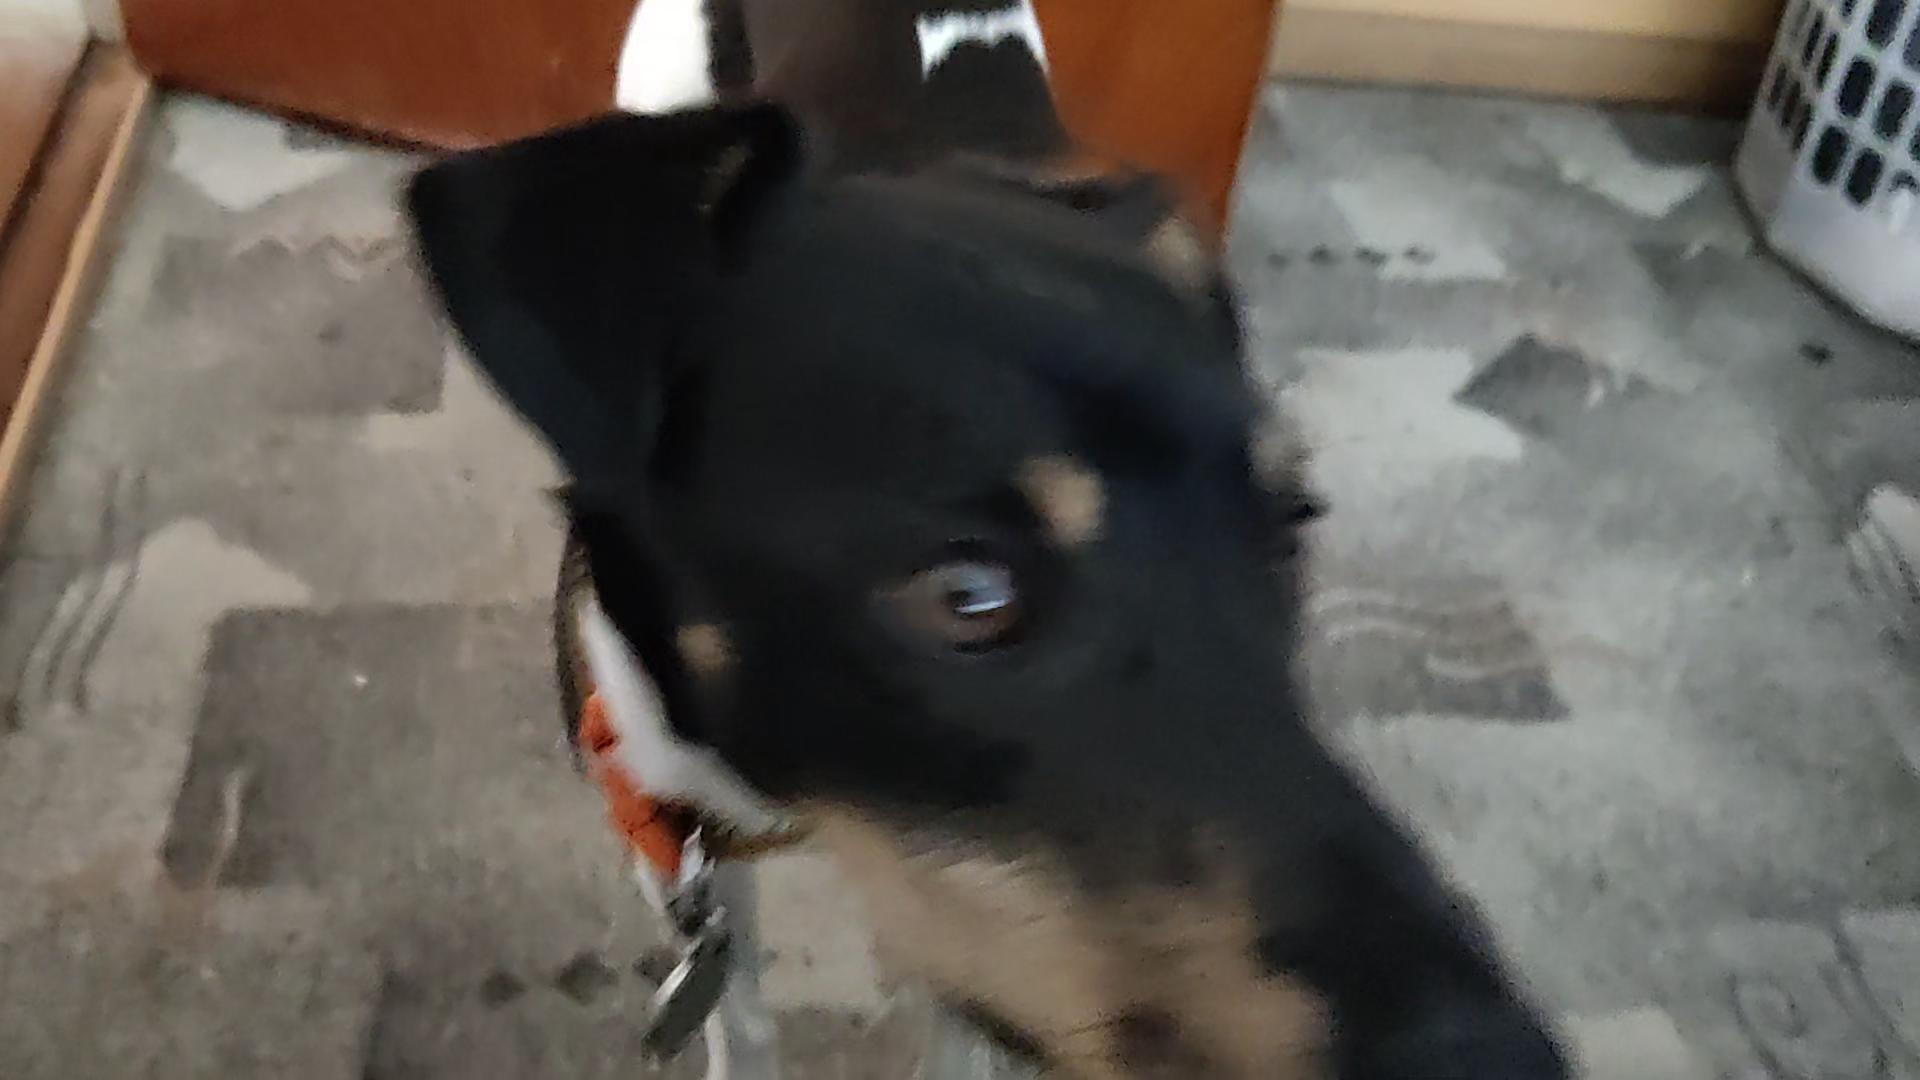Dog: (372, 0, 1629, 1079)
